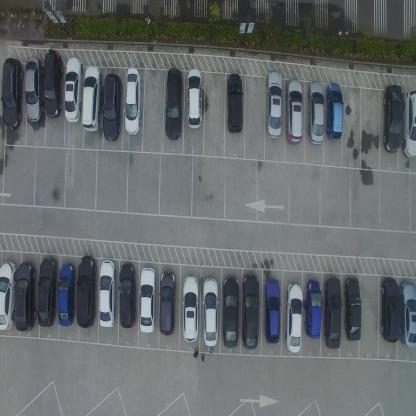car: (2, 56, 24, 130), (14, 261, 36, 333), (43, 46, 64, 118), (164, 67, 184, 141), (76, 255, 96, 329), (382, 83, 403, 153), (380, 275, 401, 344), (37, 257, 57, 328), (102, 72, 122, 142), (324, 275, 342, 350), (24, 56, 44, 123), (118, 260, 137, 330), (285, 280, 303, 353), (398, 278, 416, 350), (242, 274, 259, 350), (82, 64, 101, 132), (64, 55, 83, 123), (343, 275, 362, 342), (124, 66, 142, 136), (98, 259, 116, 329), (221, 274, 238, 348), (181, 273, 199, 342), (306, 80, 325, 145), (57, 262, 76, 327), (201, 275, 218, 347), (0, 260, 17, 332), (265, 69, 282, 140), (286, 76, 303, 146), (158, 269, 176, 335), (139, 266, 156, 335), (226, 72, 244, 134), (326, 81, 344, 142), (264, 278, 280, 345), (186, 66, 203, 128), (402, 87, 416, 160), (305, 279, 322, 339)
